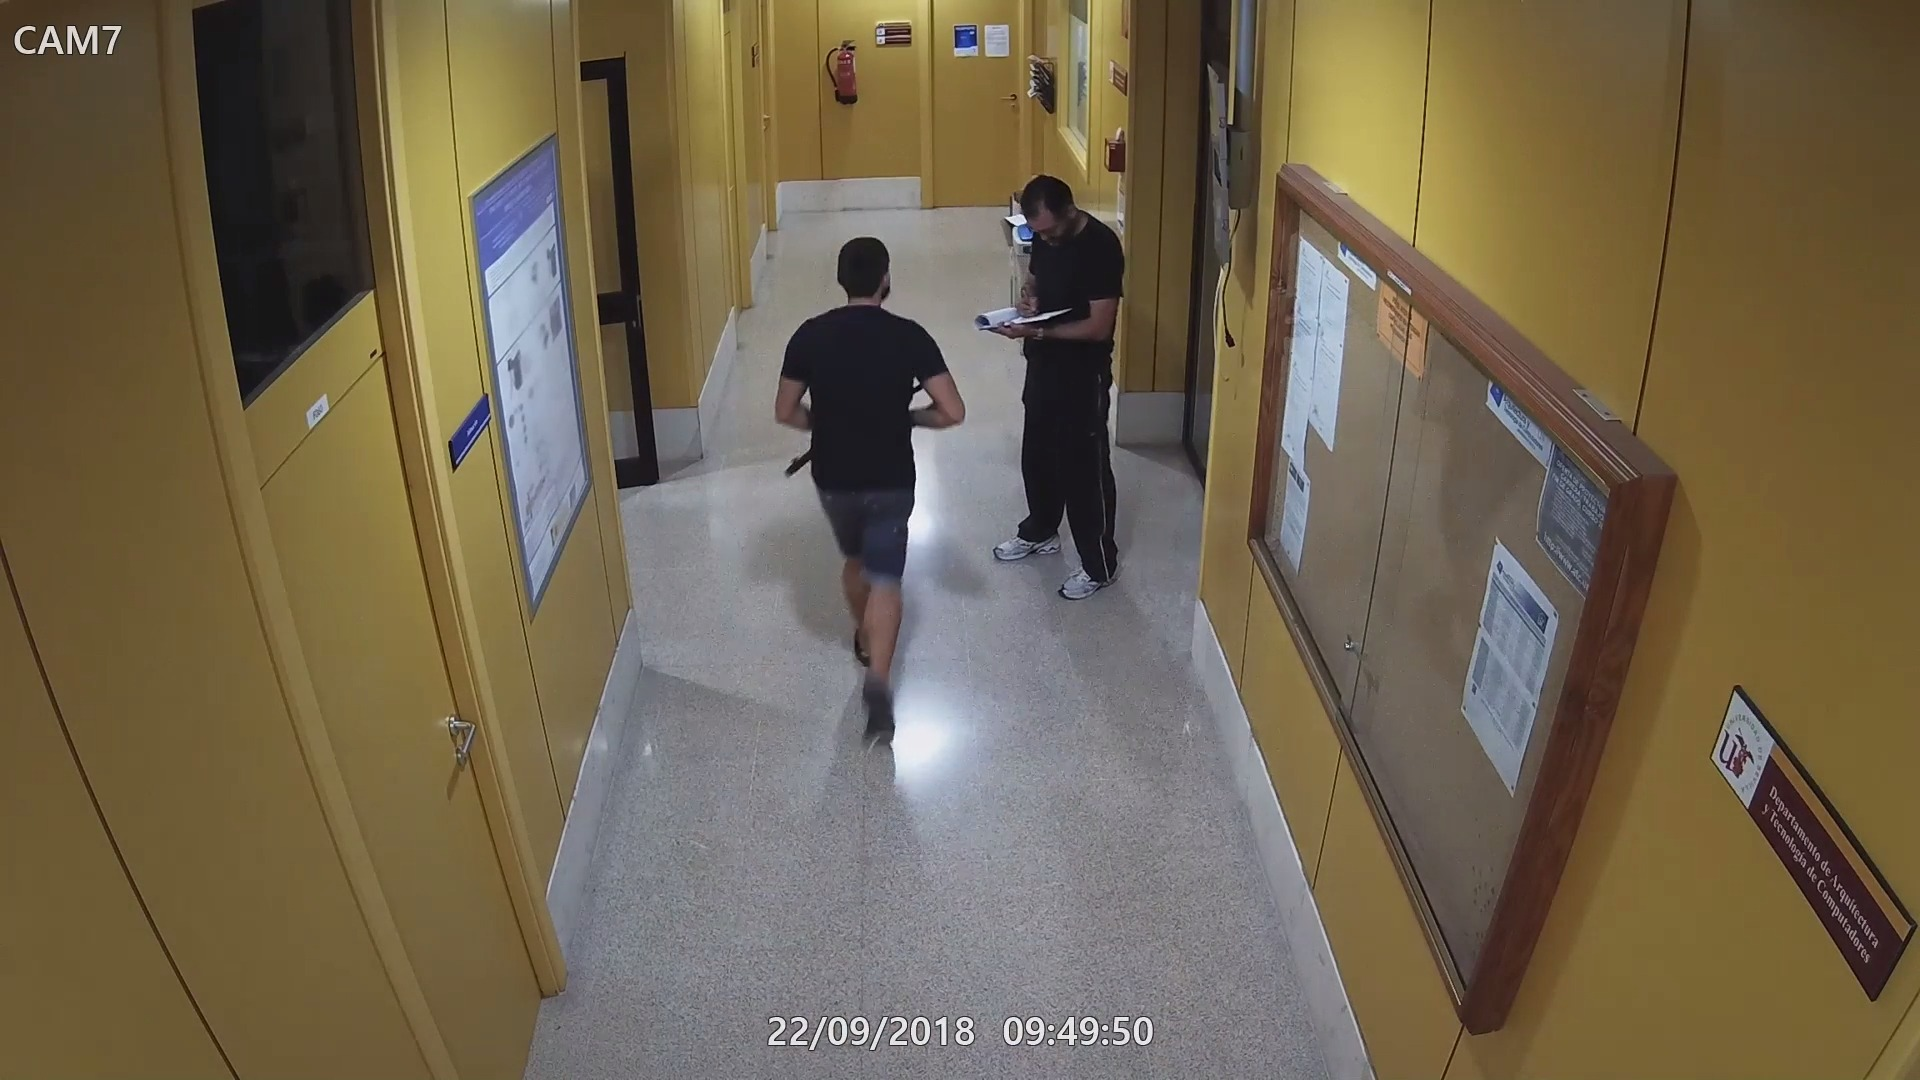rifle: (785, 438, 815, 481)
